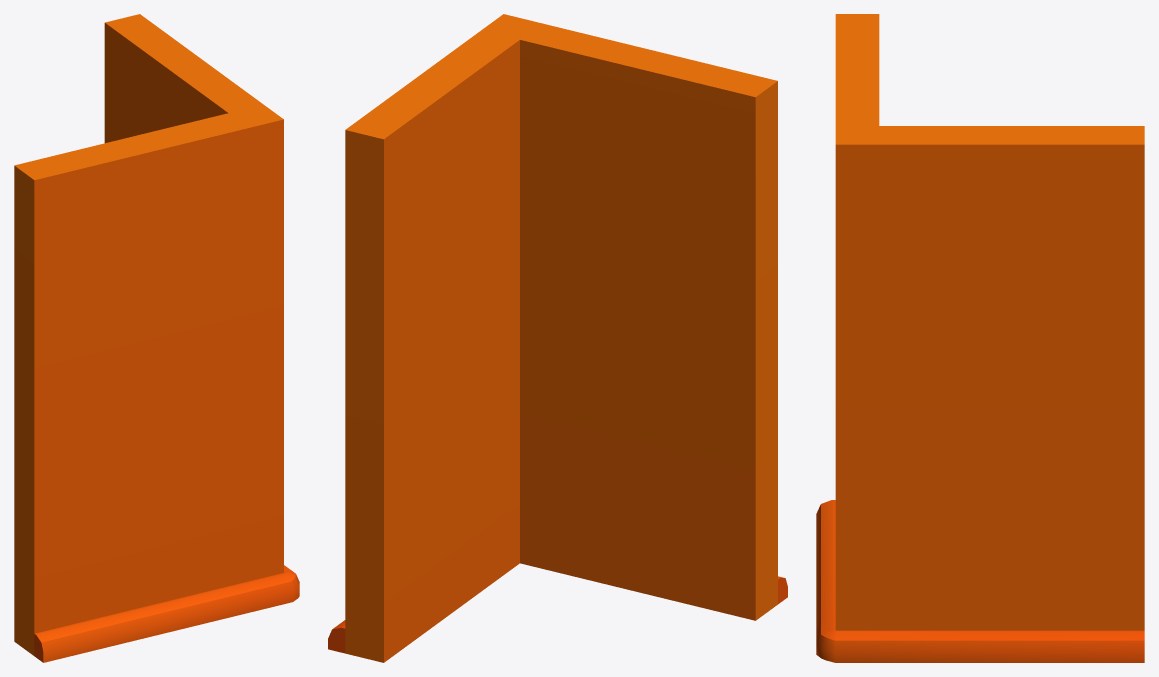
Rendered from O_WallCorner.001.fbx.
The picture shows the model from 3 angles, left to right: view 1: azimuth 30°, elevation 25°; view 2: azimuth 150°, elevation 25°; view 3: azimuth 270°, elevation 25°; orthographic projection. The views are drawn at different scales.
Parts seen in each view (by area): view 1: WallCorner.001; view 2: WallCorner.001; view 3: WallCorner.001.
Boxes of the visible parts, x1=… form: WallCorner.001: x1=14, y1=14, x2=299, y2=662; WallCorner.001: x1=328, y1=14, x2=787, y2=662; WallCorner.001: x1=816, y1=14, x2=1144, y2=662.
Bounding box in the file's own units: 146 × 250 × 146.
Materials: 1 (1 with a texture image).
